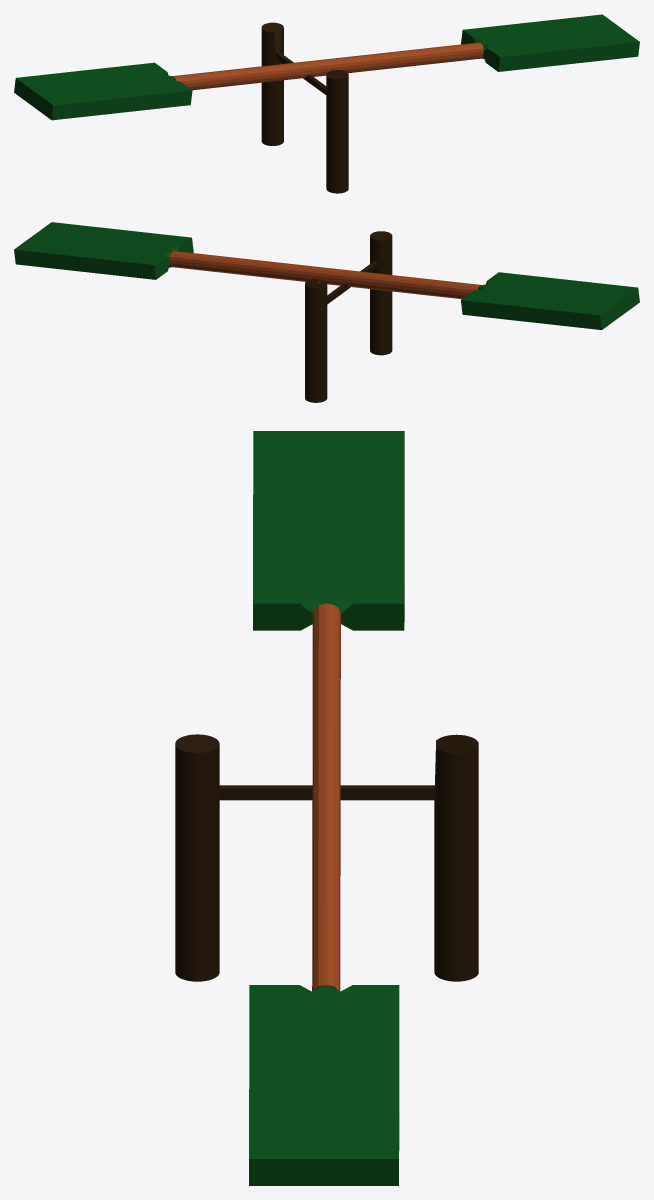
Rendered from JungkatJungkit.fbx.
3 renders of one model, top to bottom at view 1: azimuth 30°, elevation 25°; view 2: azimuth 150°, elevation 25°; view 3: azimuth 270°, elevation 25°, orthographic. The views are drawn at different scales.
Parts seen in each view (by area): view 1: Cube, Cylinder; view 2: Cube, Cylinder; view 3: Cube, Cylinder.
Part boxes in pixels (box(x1,y1,x2,y2)): Cube: box(14, 14, 639, 120); Cylinder: box(261, 22, 348, 193); Cube: box(14, 222, 639, 329); Cylinder: box(305, 231, 392, 402); Cube: box(249, 431, 404, 1185); Cylinder: box(175, 734, 478, 981).
Bounding box in the file's own units: 833 × 188 × 187.
